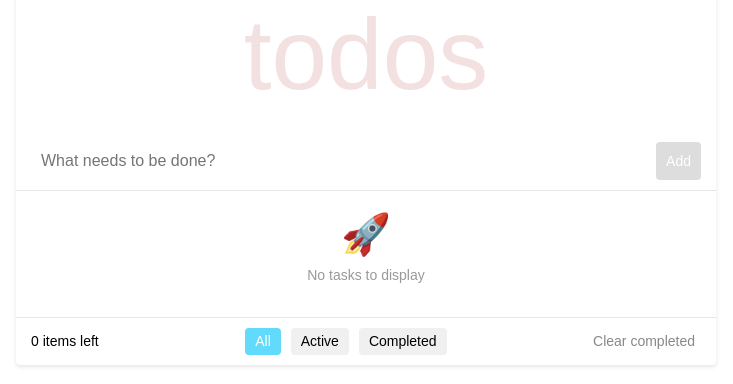
Scenario: TodoList Component › clears completed tasks when 'Clear completed' is clicked
Type "Completed Task" into the field with placeholder "What needs to be done?" at (344, 161), box [31,142,656,180]
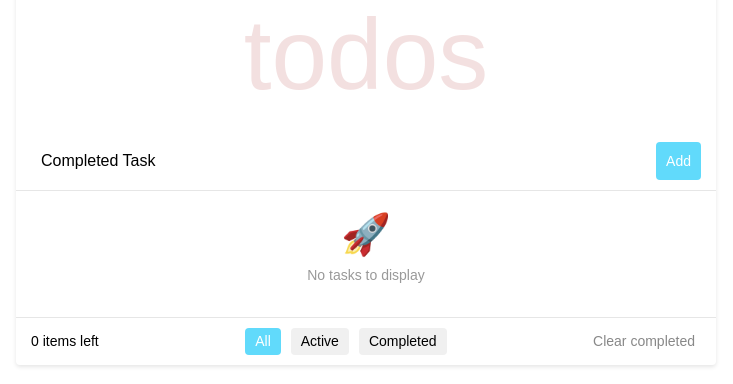
Click the button "Add" at (679, 161), box [656,142,701,180]
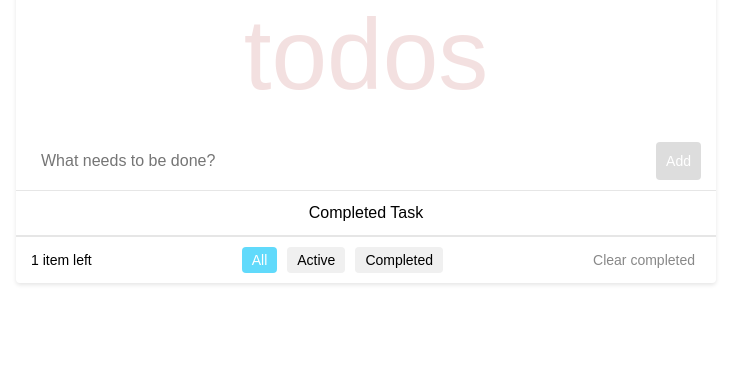
Click the list item "Completed Task" at (366, 214), box [16,191,716,236]
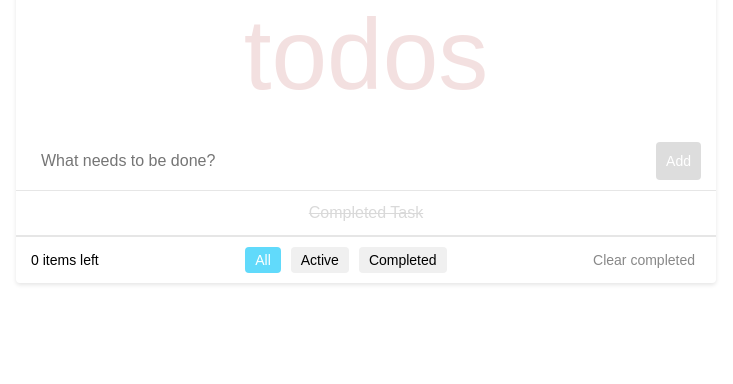
Click the button "Clear completed" at (644, 260), box [587,251,701,270]
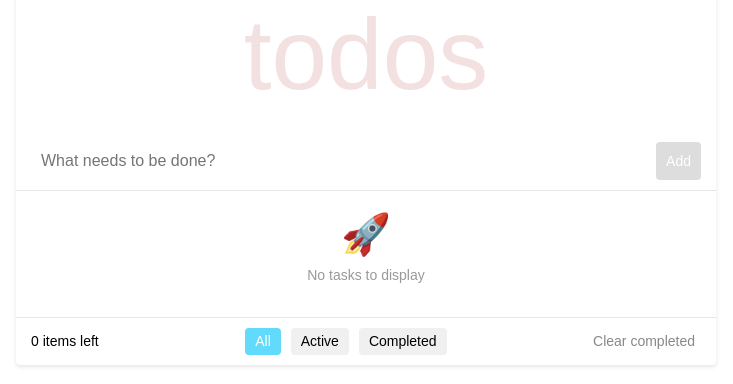
Now the list item "Completed Task" is gone
